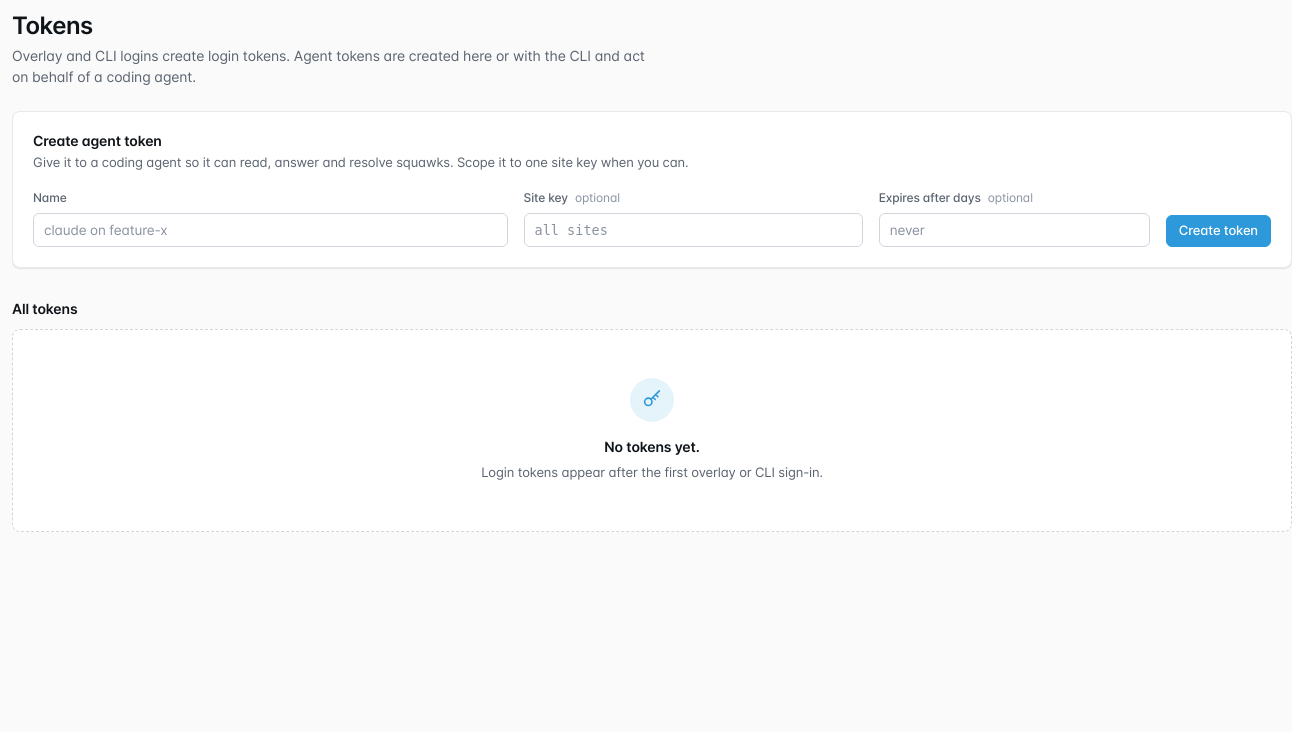
TokensPage › sends null for empty optional fields
In the field labelled "Name": (270, 230) [33,213,508,247], type "ci agent"
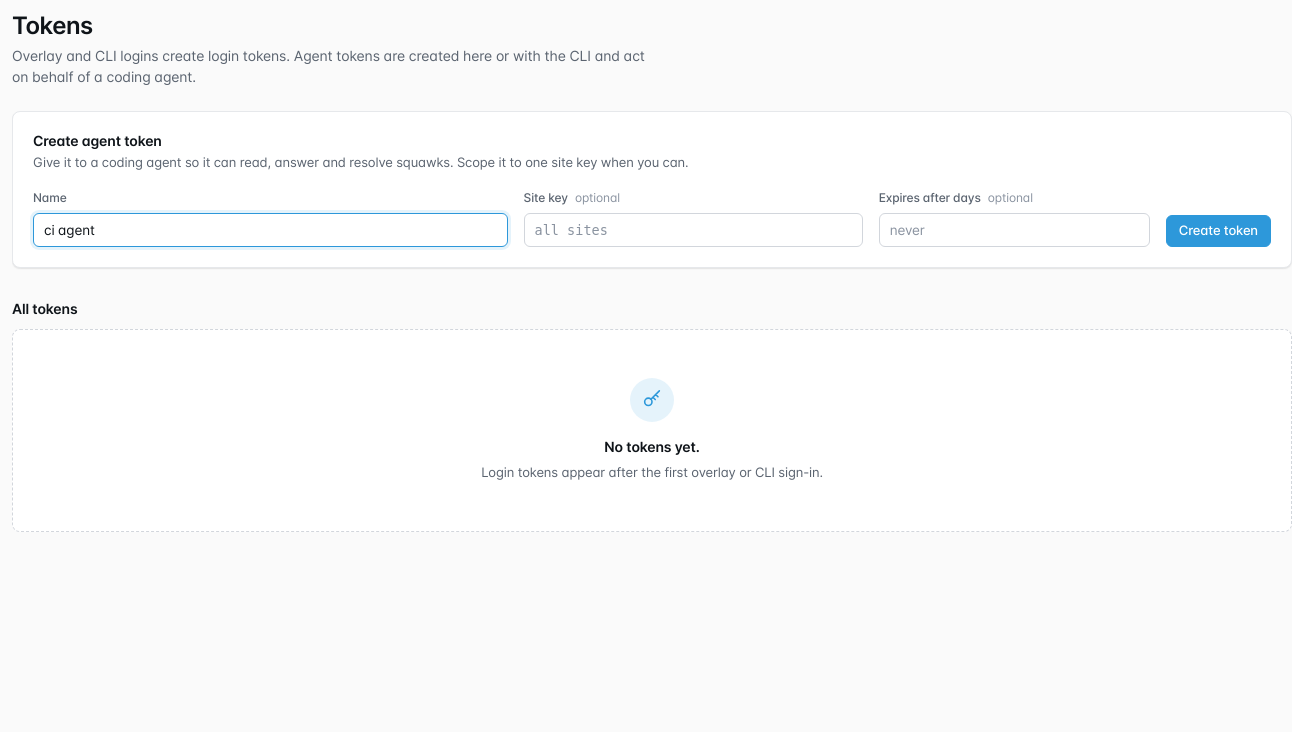
Click the button "Create token": (1218, 231) [1166,215,1271,247]
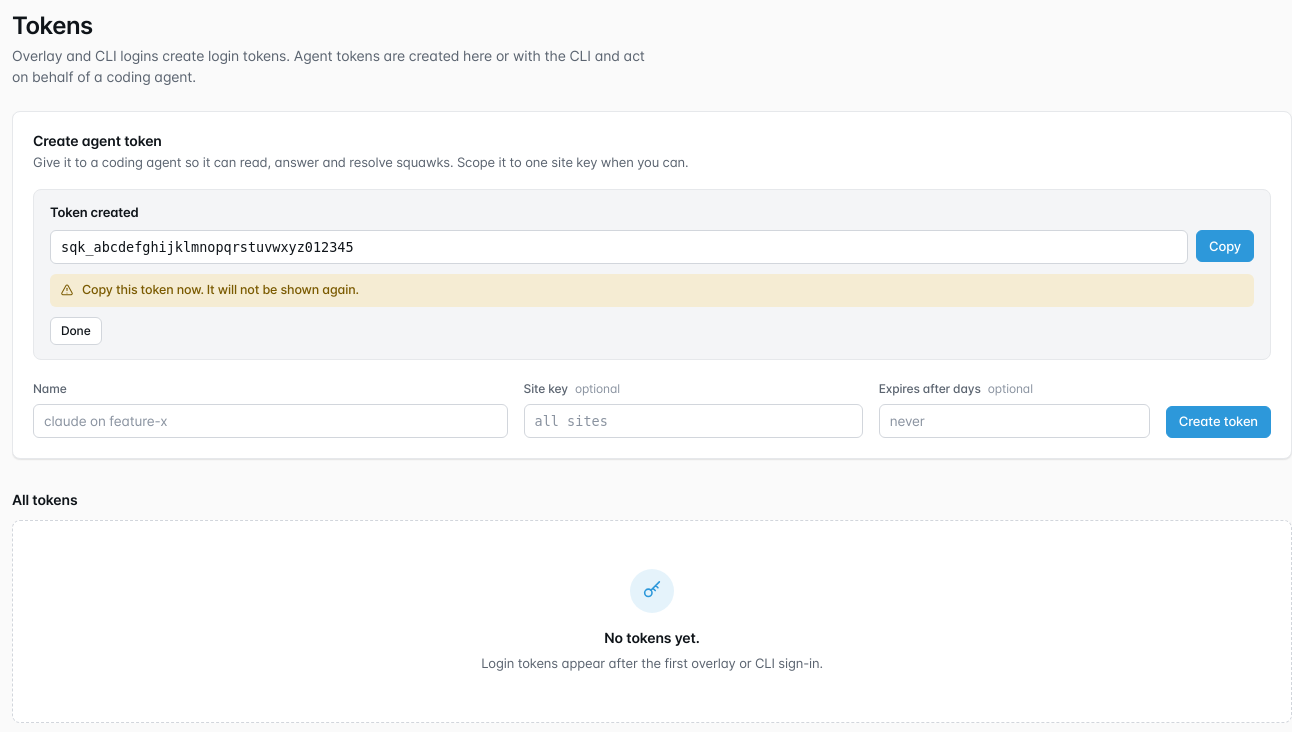
Expected: the field named "New token" is shown, [50,230,1188,264]
